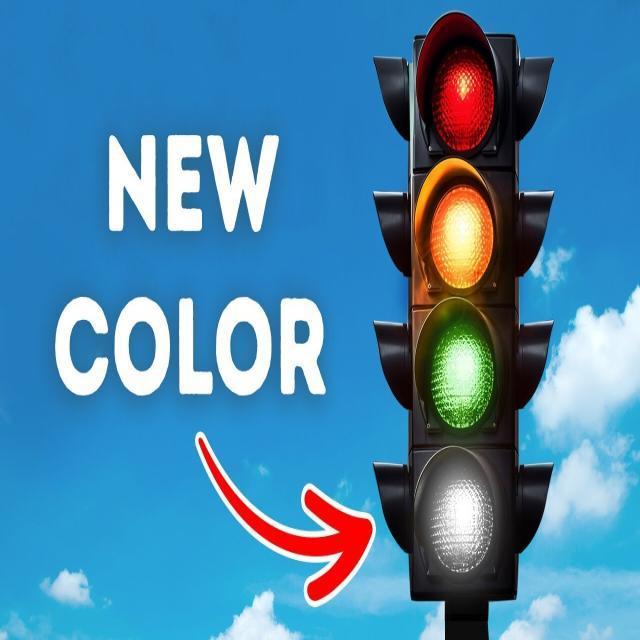suv: (373, 11, 555, 447)
